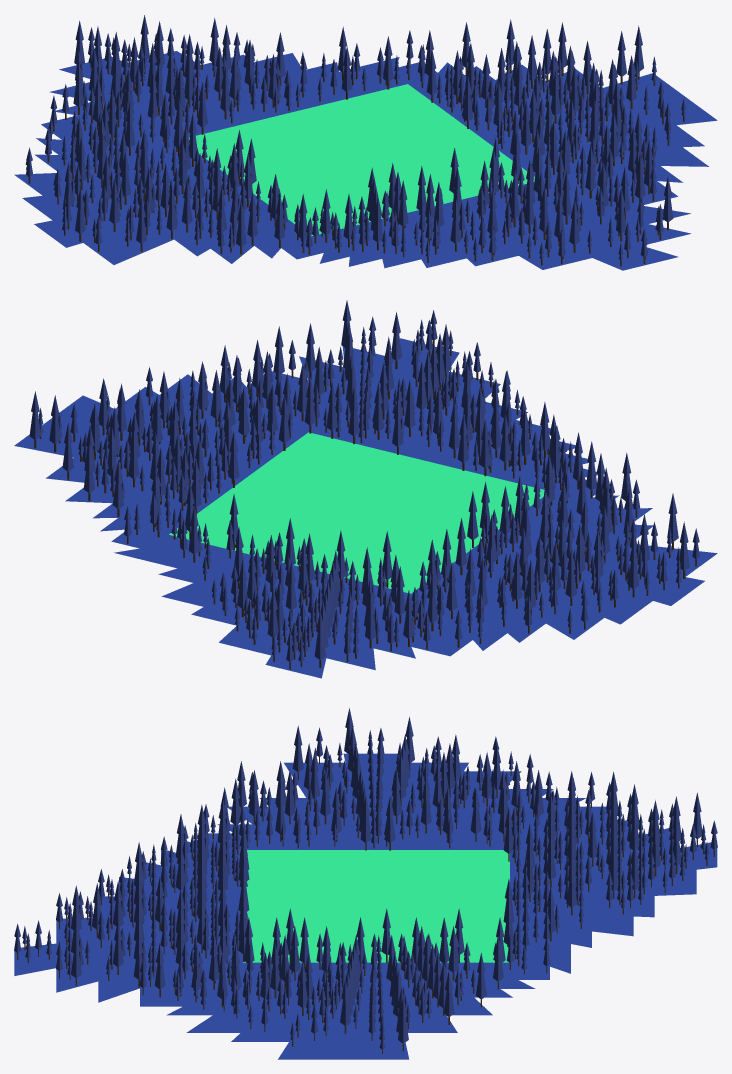
The model's file is forest01_FlutterDreams.glb.
3 views of the same model, one above another, from view 1: azimuth 30°, elevation 25°; view 2: azimuth 150°, elevation 25°; view 3: azimuth 270°, elevation 25° (orthographic). The views are drawn at different scales.
Parts seen in each view (by area): view 1: trees_blue, trees_green; view 2: trees_blue, trees_green; view 3: trees_blue, trees_green.
Boxes of the visible parts, x1,y1,x2,y2 form: trees_blue: (14, 51, 717, 270); trees_green: (188, 84, 534, 236); trees_blue: (14, 338, 717, 678); trees_green: (169, 432, 544, 593); trees_blue: (14, 753, 717, 1059); trees_green: (243, 850, 509, 962).
Bounding box in the file's own units: 35.5 × 4.94 × 34.53.
